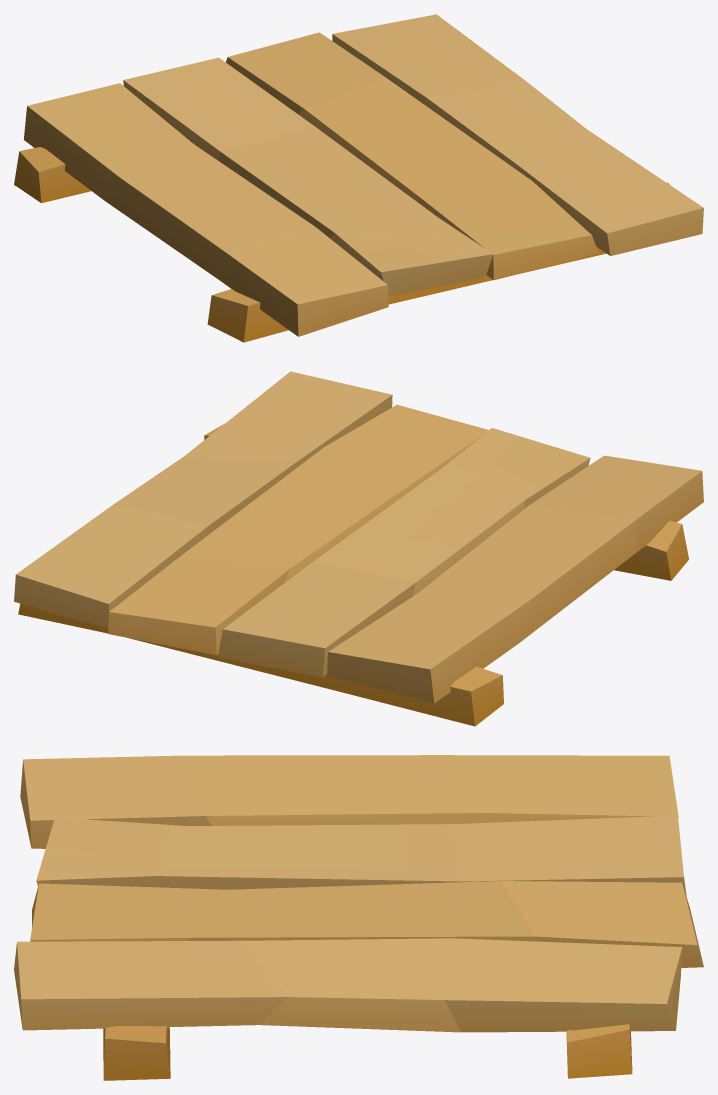
File: PenutupKayu.fbx
The picture shows the model from 3 angles, top to bottom: view 1: azimuth 30°, elevation 25°; view 2: azimuth 150°, elevation 25°; view 3: azimuth 270°, elevation 25°; orthographic projection. The views are drawn at different scales.
Parts seen in each view (by area): view 1: Wood_board_1; view 2: Wood_board_1; view 3: Wood_board_1.
Part boxes in pixels (x1,y1,x2,y2): Wood_board_1: (14, 14, 703, 342); Wood_board_1: (14, 371, 703, 726); Wood_board_1: (14, 755, 703, 1080).
Size of the model in its own units: 93.21 by 12.36 by 100.
